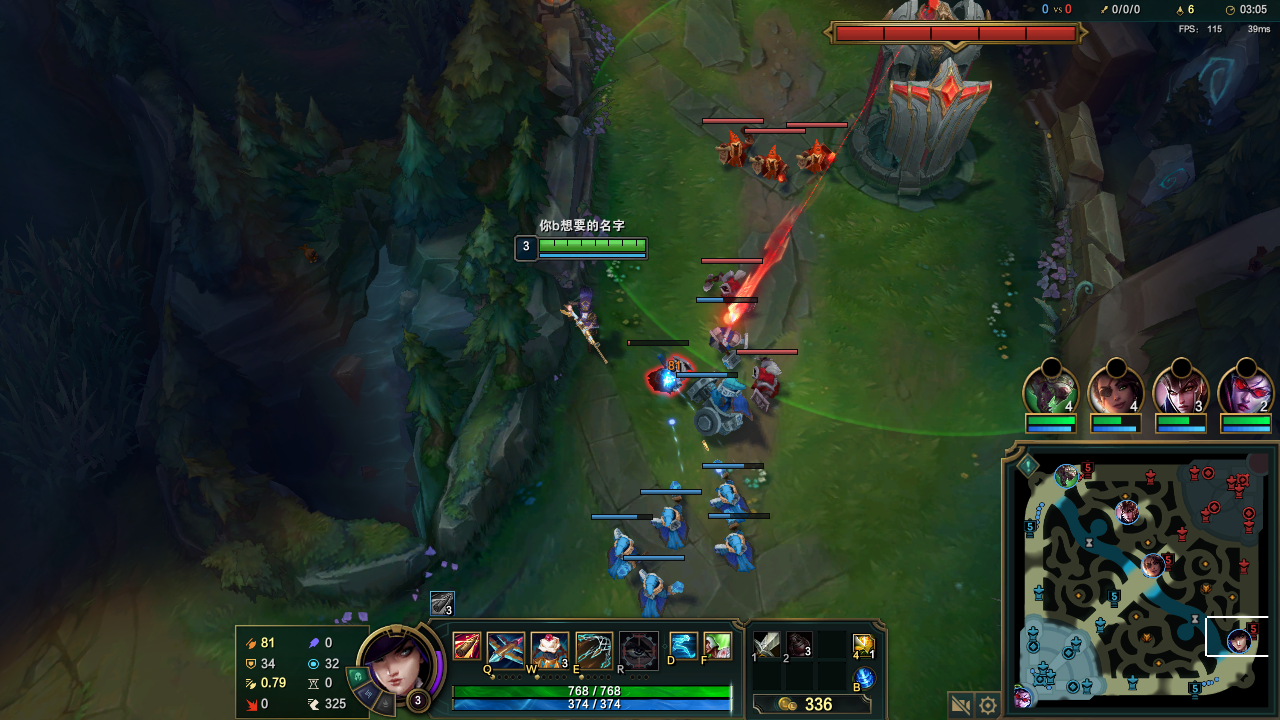DFFYT: (829, 5, 1022, 182)
DFXB: (642, 355, 685, 392), (798, 135, 838, 174), (754, 144, 789, 185), (750, 362, 782, 405), (719, 128, 751, 167), (718, 272, 754, 304)
WFXB: (692, 376, 749, 435), (704, 470, 748, 521), (653, 494, 691, 550), (711, 528, 753, 572), (642, 569, 680, 614), (708, 322, 749, 359), (610, 530, 635, 572)
Yita: (1188, 676, 1202, 700)
